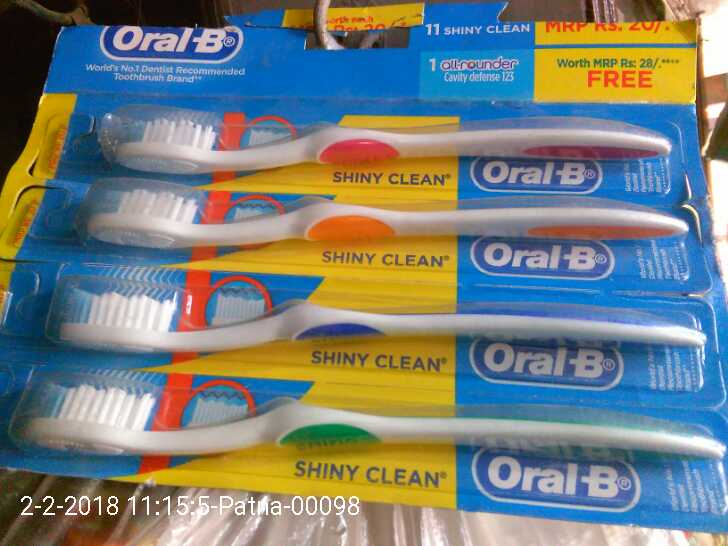oralb: (16, 379, 728, 474), (55, 283, 703, 360), (106, 98, 681, 181), (84, 182, 693, 253)
